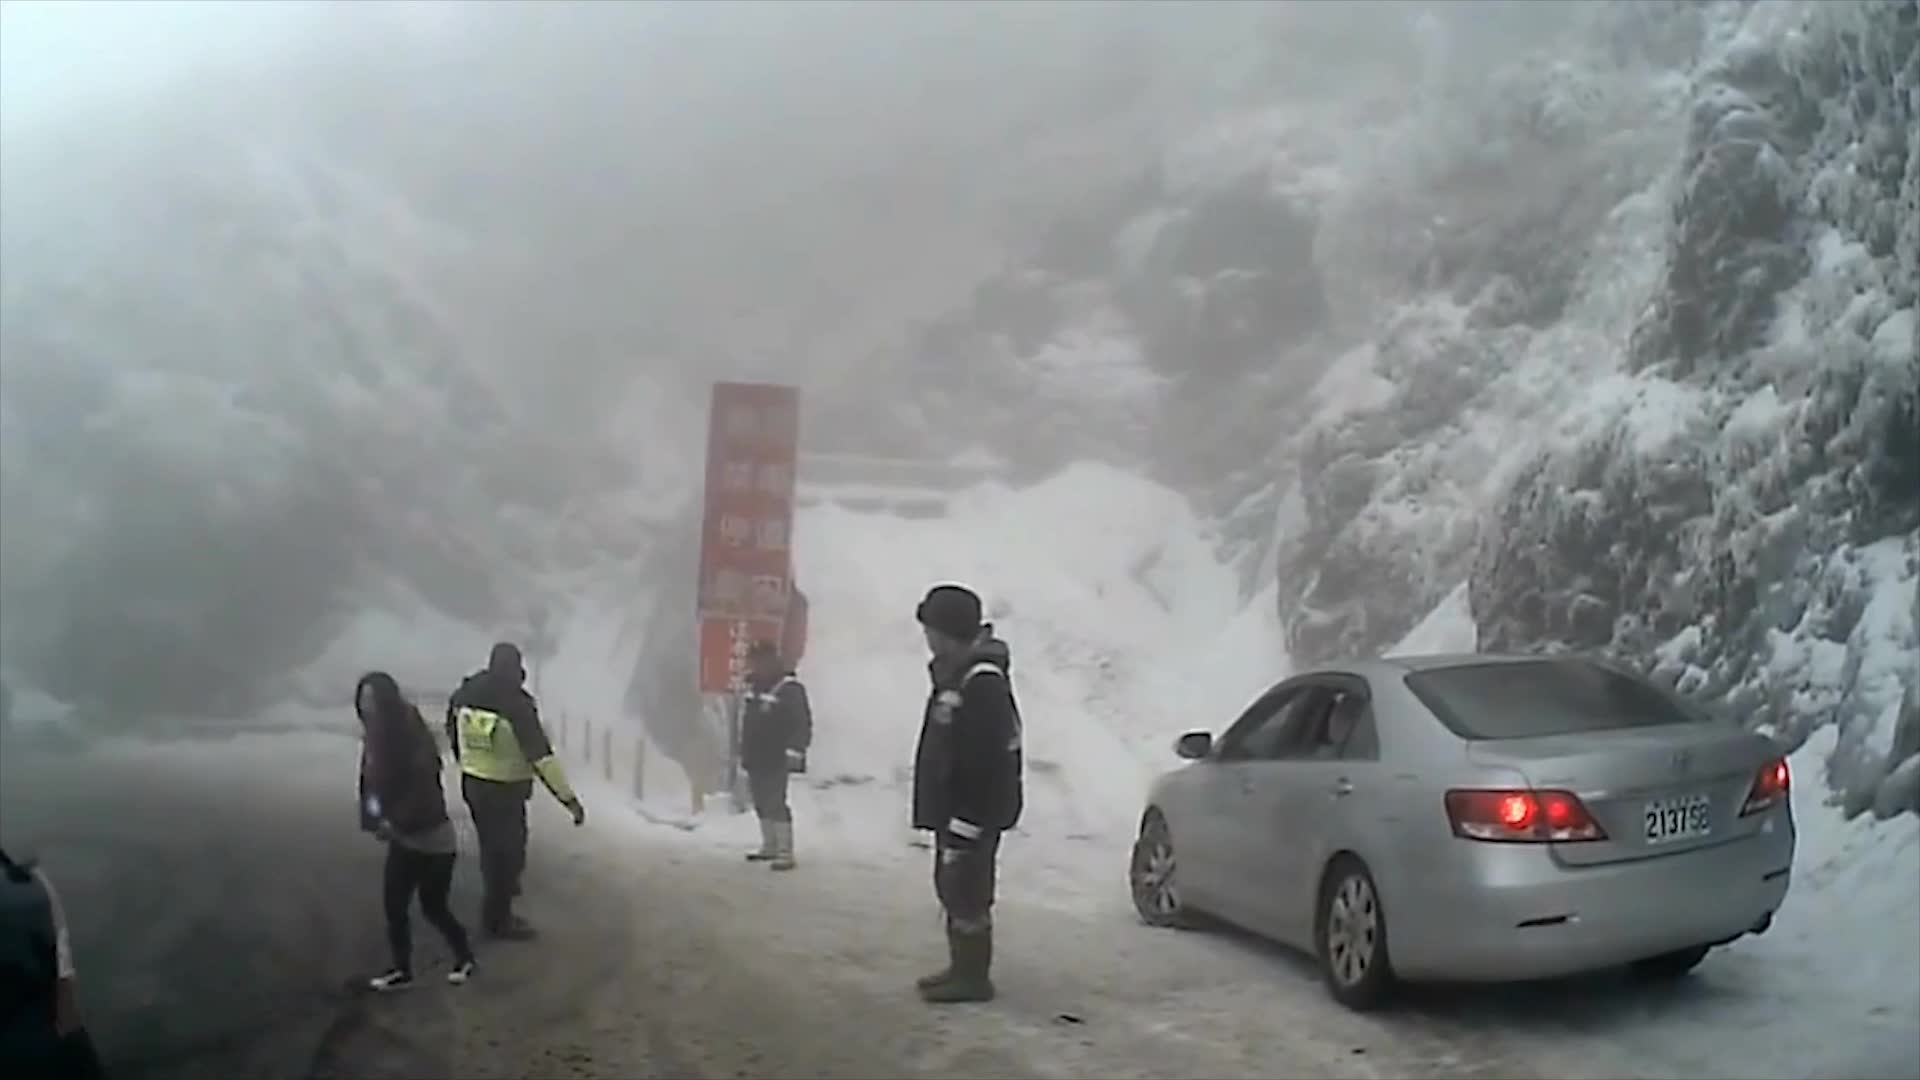pedestrian: (901, 585, 1035, 1015), (448, 646, 582, 939), (357, 674, 470, 980), (740, 637, 824, 878), (748, 569, 814, 746)
vehicle: (1127, 654, 1796, 1010), (0, 831, 101, 1079)
